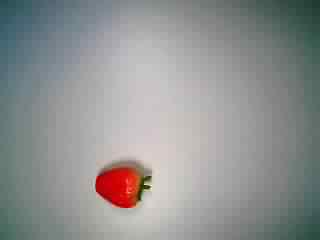strawberry: (89, 155, 157, 219)
